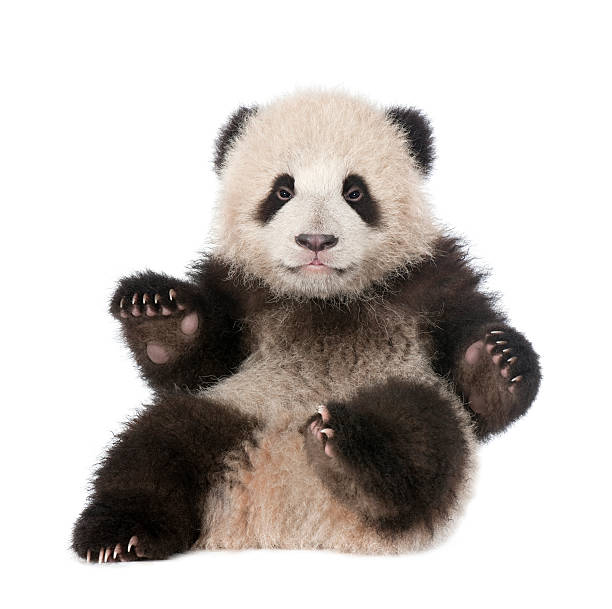panda: (157, 59, 479, 331)
